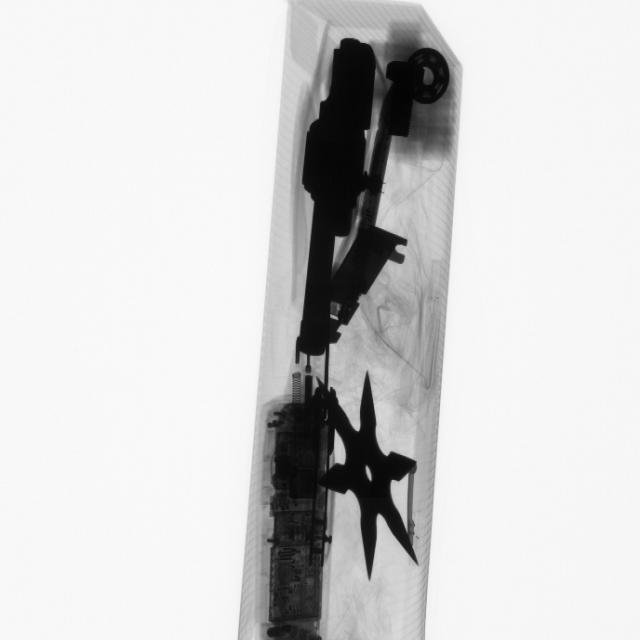GUN: (290, 38, 379, 370)
SHURIKEN: (319, 372, 418, 580)
